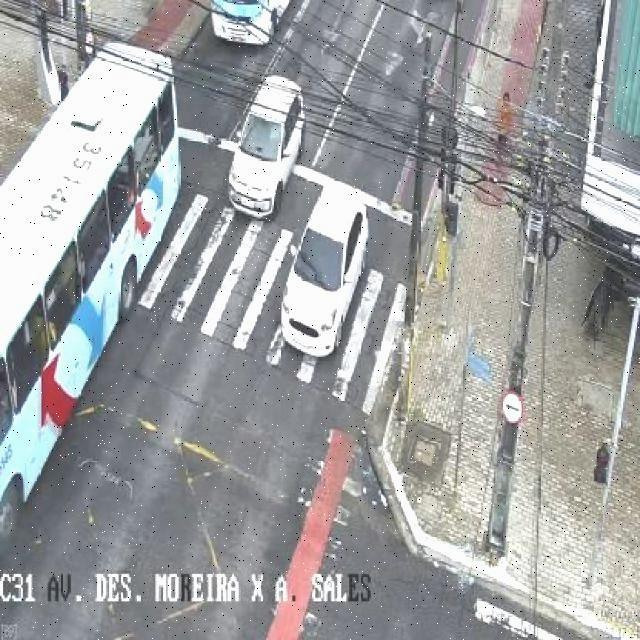Bus: (0, 24, 183, 515), (184, 0, 288, 66)
Car: (267, 188, 383, 370), (205, 68, 308, 213), (170, 0, 328, 38)
